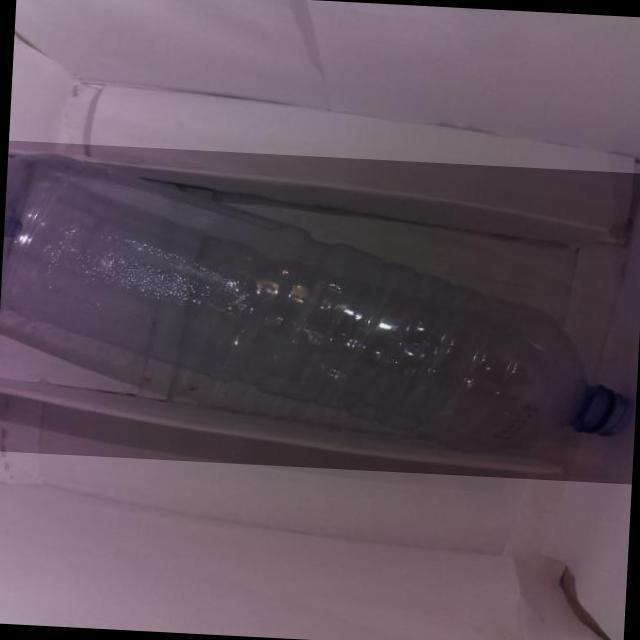good: (0, 138, 640, 483)
